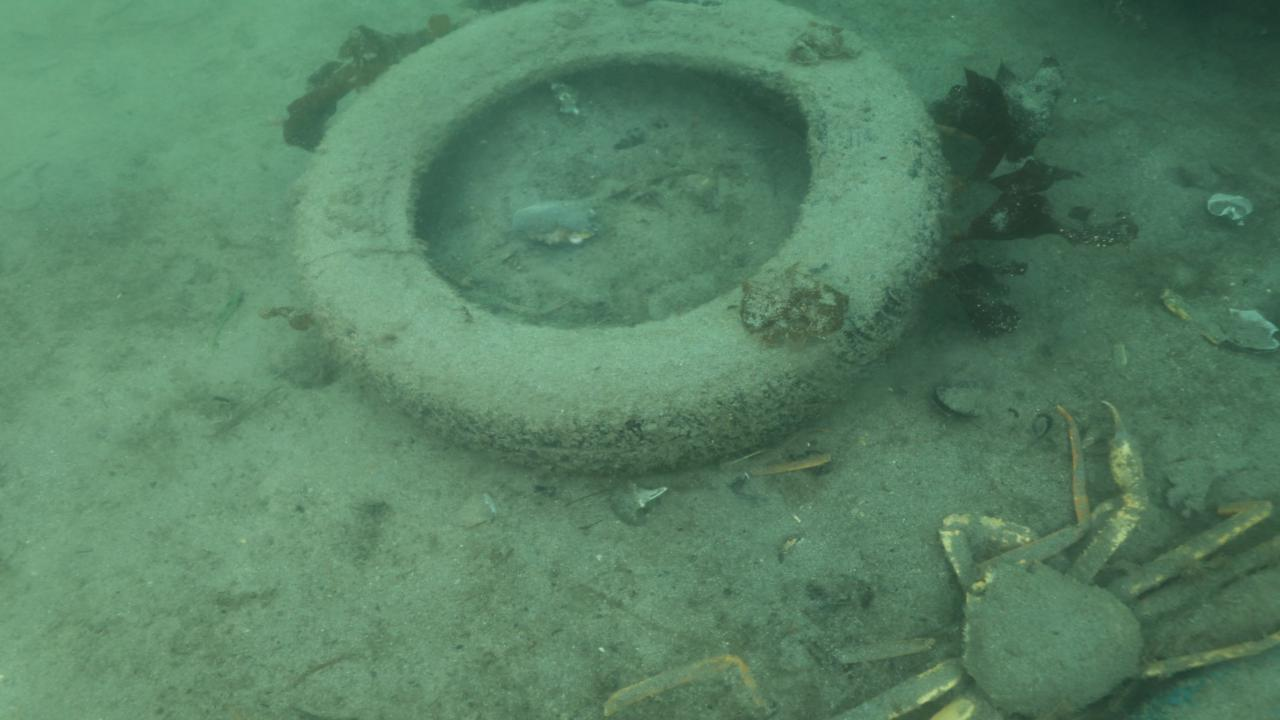tire: (294, 0, 948, 478)
